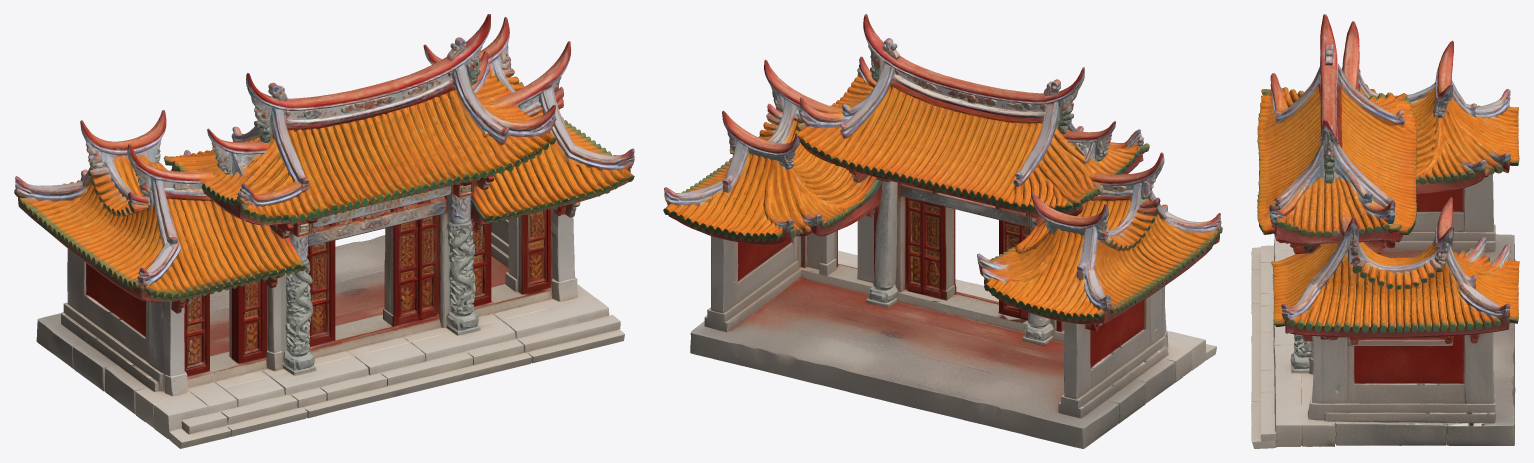
File: mountain-gate.glb
3 views of the same model, side by side, from view 1: azimuth 30°, elevation 25°; view 2: azimuth 150°, elevation 25°; view 3: azimuth 270°, elevation 25° (orthographic). The views are drawn at different scales.
Visible parts, largest first — view 1: model; view 2: model; view 3: model.
Boxes of the visible parts, x1=… form: model: x1=14, y1=14, x2=634, y2=448; model: x1=663, y1=14, x2=1222, y2=448; model: x1=1251, y1=14, x2=1519, y2=448.
Size of the model in its own units: 1.9 by 1.17 by 0.9916.
1 material, 1 textured.
